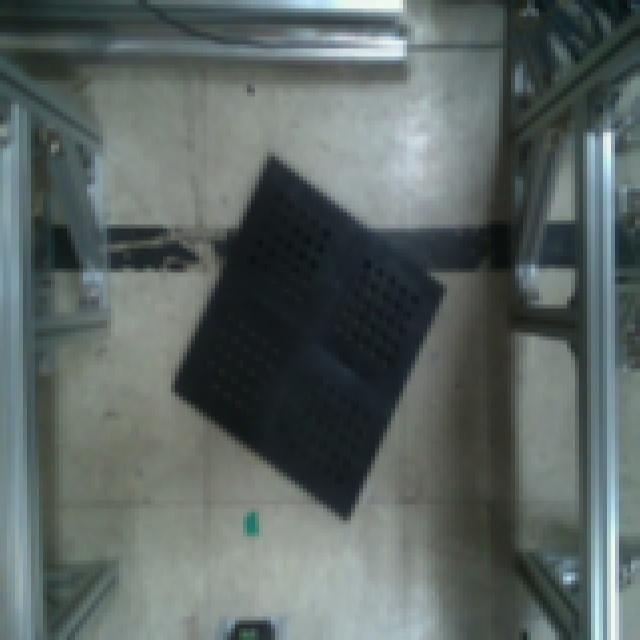pallet: (162, 150, 452, 531)
